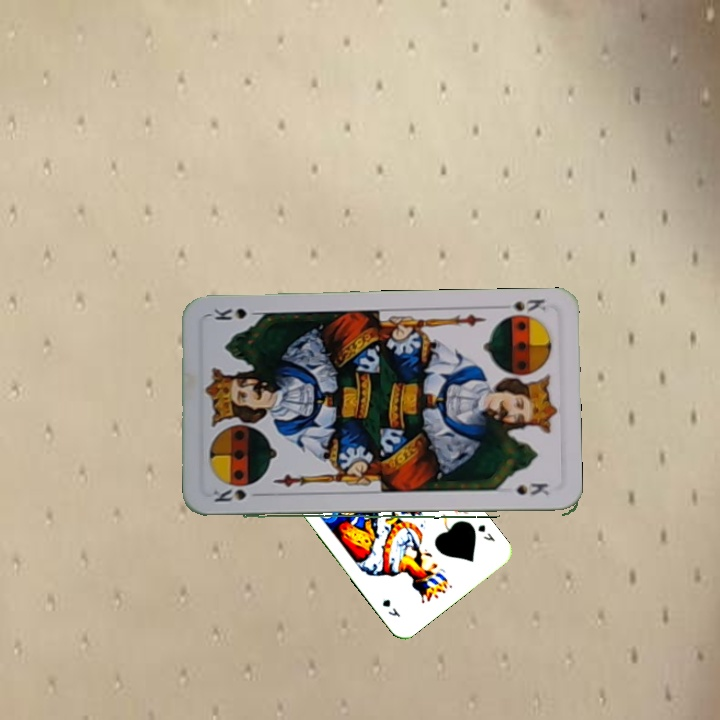GK: (473, 520, 497, 544)
SK: (494, 295, 548, 314), (209, 486, 249, 504)
